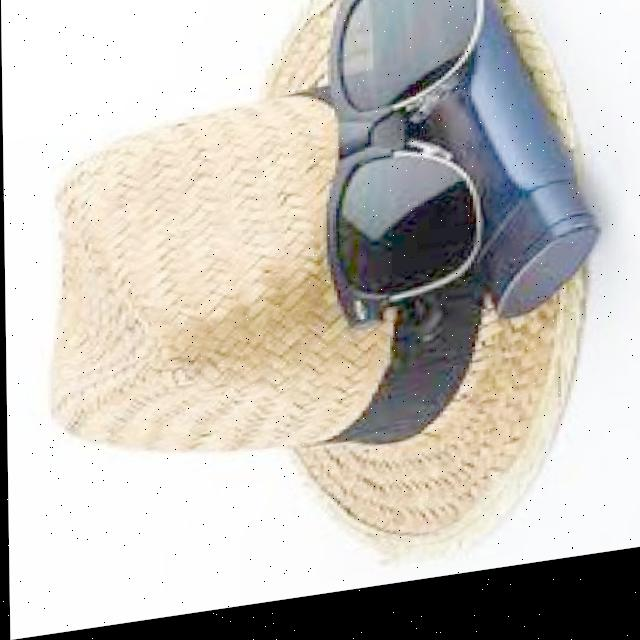gozluk: (302, 0, 495, 348)
